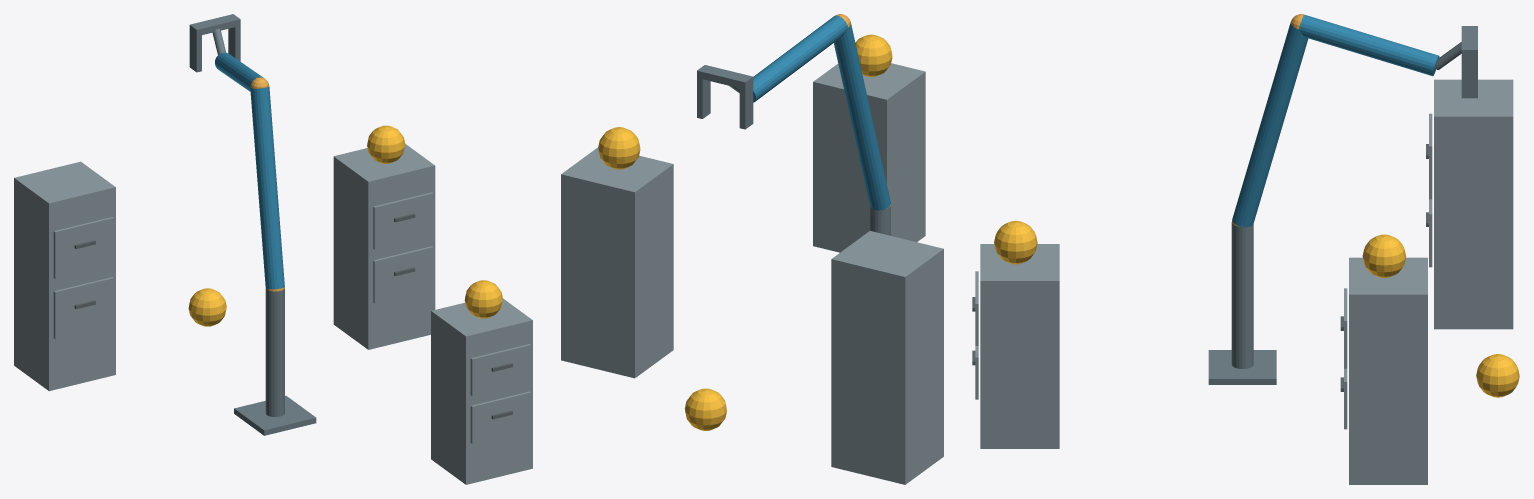
The picture shows the model from 3 angles, left to right: view 1: azimuth 30°, elevation 25°; view 2: azimuth 150°, elevation 25°; view 3: azimuth 270°, elevation 25°; orthographic projection. The views are drawn at different scales.
Parts seen in each view (by area): view 1: cabinet_3 body, cabinet_2 body, cabinet_1 body, moving link 1, cabinet_3 drawer front.001, cabinet_3 drawer front, cabinet_2 drawer front, cabinet_2 drawer front.001, fixed post, cabinet_1 drawer front.001, cabinet_1 drawer front, pedestal (+5 smaller); view 2: cabinet_3 body, cabinet_2 body, cabinet_1 body, moving link 1, moving link 2, released ball_2, ball ball_3, released ball_1, gripper bridge, gripper finger -1, gripper finger 1, fixed post; view 3: cabinet_3 body, cabinet_2 body, cabinet_1 body, moving link 1, fixed post, moving link 2, pedestal, ball ball_3, released ball_1, released ball_2, gripper finger 1.
Boxes of the visible parts, x1,y1,x2,y2 form: cabinet_3 body: (14,161,115,391); cabinet_2 body: (333,144,435,349); cabinet_1 body: (431,298,532,484); moving link 1: (250,86,284,289); cabinet_3 drawer front.001: (53,217,113,278); cabinet_3 drawer front: (53,277,113,339); cabinet_2 drawer front: (373,246,433,303); cabinet_2 drawer front.001: (373,192,433,249); fixed post: (265,287,284,416); cabinet_1 drawer front.001: (470,344,530,396); cabinet_1 drawer front: (470,391,530,443); pedestal: (234,395,316,435); cabinet_3 body: (831,231,943,484); cabinet_2 body: (561,147,673,378); cabinet_1 body: (813,63,925,252); moving link 1: (833,21,890,210); moving link 2: (753,15,848,102); released ball_2: (598,127,640,169); ball ball_3: (684,388,726,430); released ball_1: (855,34,892,77); gripper bridge: (697,65,753,89); gripper finger -1: (739,84,753,129); gripper finger 1: (697,78,710,118); fixed post: (870,206,890,235); cabinet_3 body: (1434,79,1513,329); cabinet_2 body: (1349,257,1427,484); cabinet_1 body: (980,244,1059,448); moving link 1: (1232,22,1308,227); fixed post: (1231,222,1253,368); moving link 2: (1298,14,1439,76); pedestal: (1208,350,1276,384); ball ball_3: (1476,354,1519,397); released ball_1: (994,220,1037,264); released ball_2: (1362,234,1406,277); gripper finger 1: (1461,57,1477,98).
Size of the model in its own units: 1.67 by 1.46 by 2.01.
